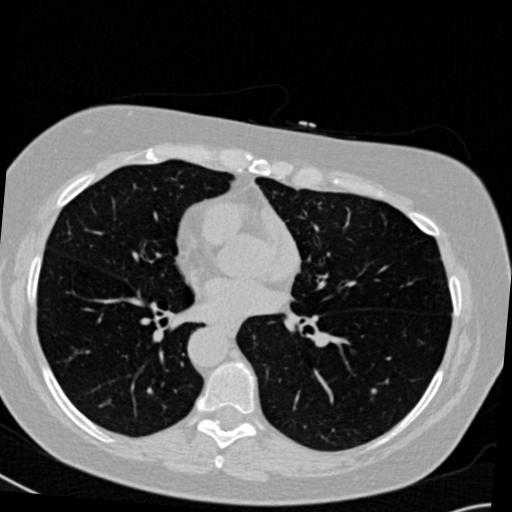nodule: (370, 386, 382, 398)
